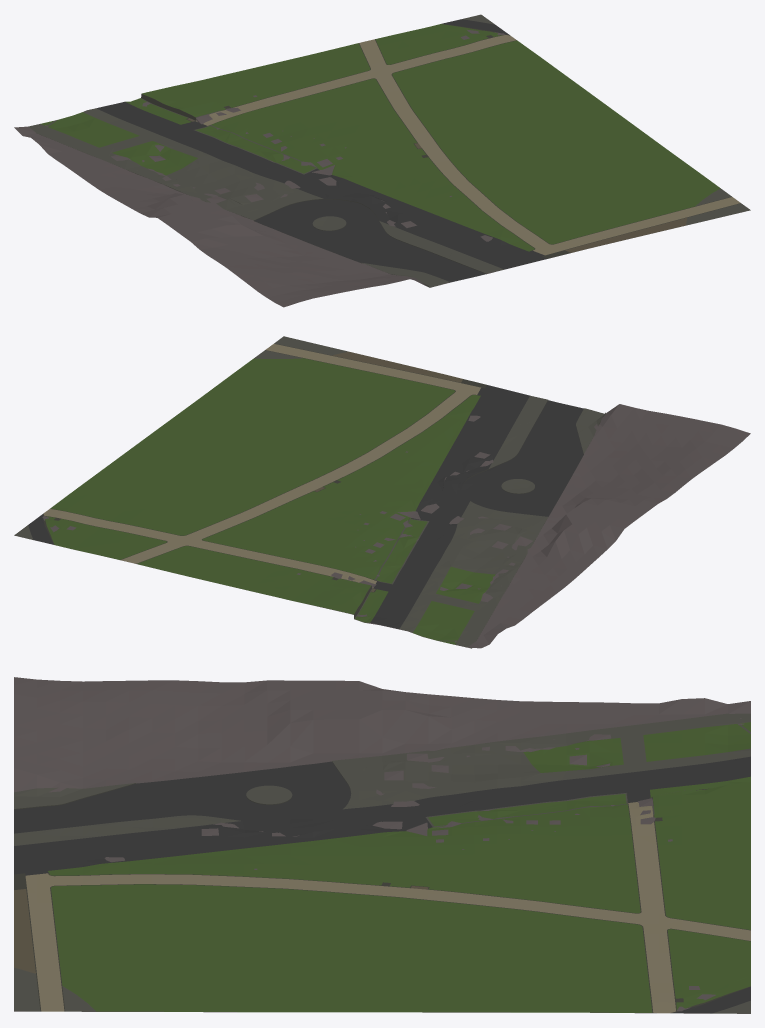
The picture shows the model from 3 angles, top to bottom: view 1: azimuth 30°, elevation 25°; view 2: azimuth 150°, elevation 25°; view 3: azimuth 270°, elevation 25°; orthographic projection. The views are drawn at different scales.
Visible parts, largest first — view 1: c_m08_m06; view 2: c_m08_m06; view 3: c_m08_m06.
Boxes of the visible parts, x1=… form: c_m08_m06: x1=14, y1=14, x2=750, y2=307; c_m08_m06: x1=14, y1=336, x2=750, y2=648; c_m08_m06: x1=14, y1=677, x2=750, y2=1013.
Size of the model in its own units: 128 by 6.57 by 128.
